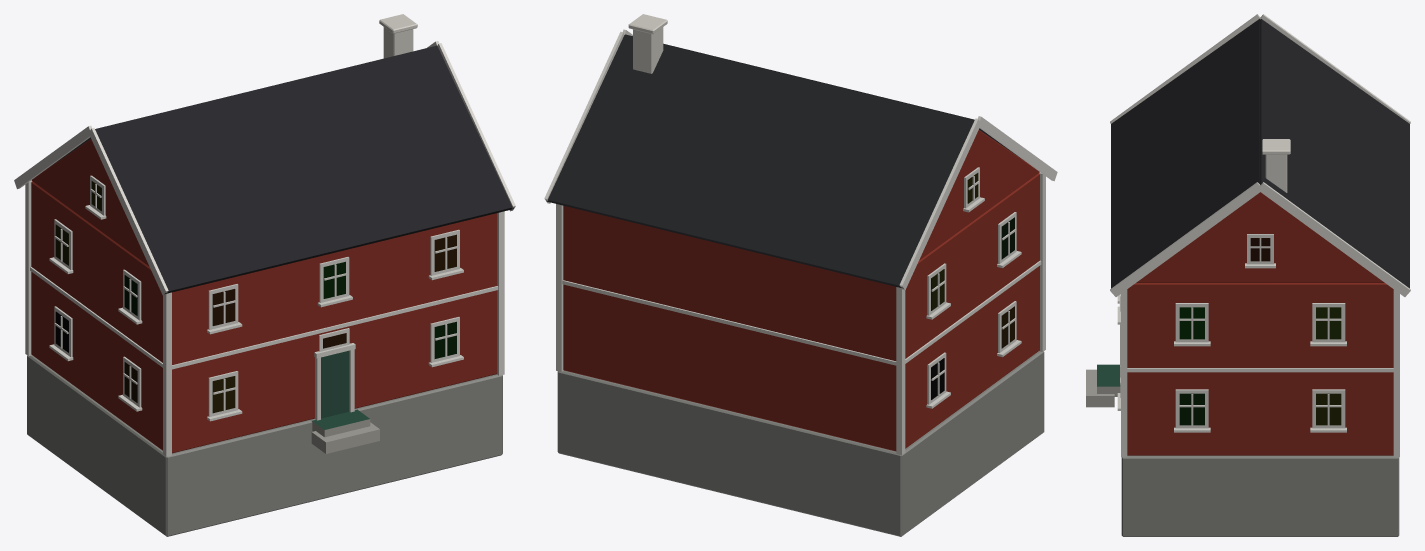
Rendered from house_f_warehouse.glb.
3 views of the same model, side by side, from view 1: azimuth 30°, elevation 25°; view 2: azimuth 150°, elevation 25°; view 3: azimuth 270°, elevation 25° (orthographic). The views are drawn at different scales.
Parts seen in each view (by area): view 1: house_f_warehouse_walls, house_f_warehouse_roof, house_f_warehouse_plinth, house_f_warehouse_trim, house_f_warehouse_glass, house_f_warehouse_door, house_f_warehouse_chimney; view 2: house_f_warehouse_walls, house_f_warehouse_roof, house_f_warehouse_plinth, house_f_warehouse_trim, house_f_warehouse_glass, house_f_warehouse_chimney; view 3: house_f_warehouse_walls, house_f_warehouse_roof, house_f_warehouse_plinth, house_f_warehouse_trim, house_f_warehouse_glass, house_f_warehouse_door, house_f_warehouse_chimney.
Boxes of the visible parts, x1,y1,x2,y2 form: house_f_warehouse_walls: (31,139,497,453); house_f_warehouse_roof: (47,45,513,294); house_f_warehouse_plinth: (27,355,502,536); house_f_warehouse_trim: (14,41,515,456); house_f_warehouse_glass: (55,181,456,413); house_f_warehouse_door: (311,350,379,453); house_f_warehouse_chimney: (379,14,417,58); house_f_warehouse_walls: (563,130,1039,451); house_f_warehouse_roof: (546,34,1022,288); house_f_warehouse_plinth: (557,351,1044,536); house_f_warehouse_trim: (544,29,1057,454); house_f_warehouse_glass: (931,173,1014,399); house_f_warehouse_chimney: (628,14,667,73); house_f_warehouse_walls: (1127,192,1393,455); house_f_warehouse_roof: (1111,19,1409,288); house_f_warehouse_plinth: (1121,455,1399,536); house_f_warehouse_trim: (1110,14,1410,457); house_f_warehouse_glass: (1179,238,1341,425); house_f_warehouse_door: (1086,364,1120,407); house_f_warehouse_chimney: (1262,139,1290,192).
Size of the model in its own units: 12.62 by 13.21 by 10.24.
